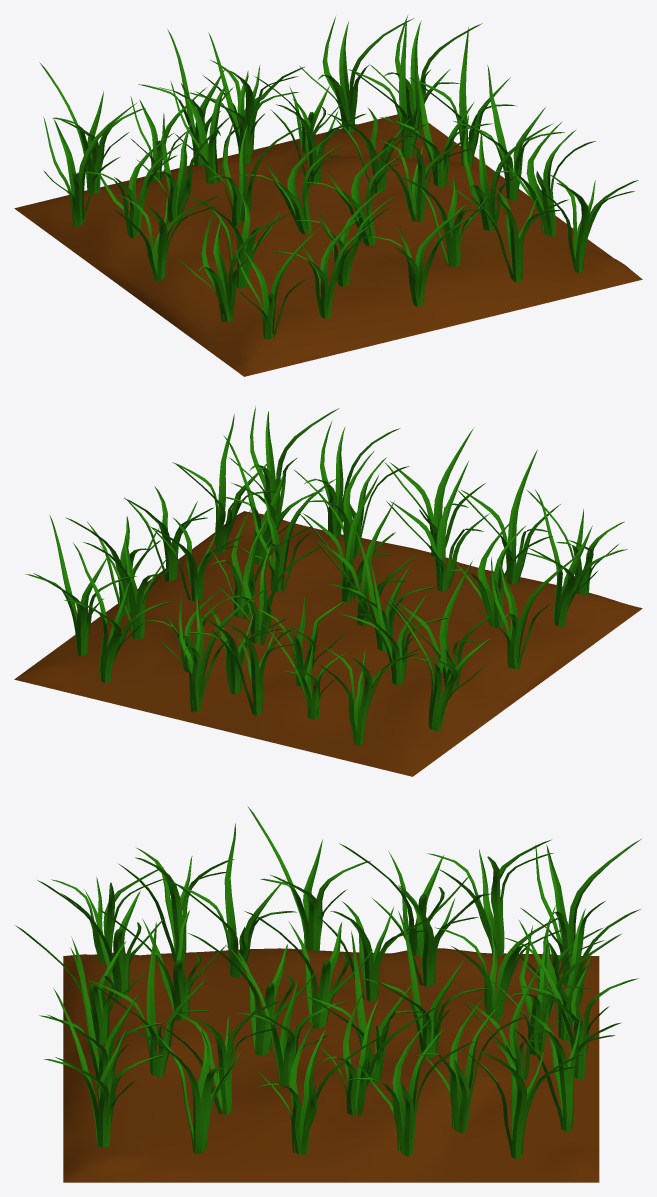
File: white-tulip-p1-bloom.glb
3 renders of one model, top to bottom at view 1: azimuth 30°, elevation 25°; view 2: azimuth 150°, elevation 25°; view 3: azimuth 270°, elevation 25°, orthographic. The views are drawn at different scales.
Visible parts, largest first — view 1: 1_nft_bloom; view 2: 1_nft_bloom; view 3: 1_nft_bloom.
Boxes of the visible parts, left/top/right/bottom form: 1_nft_bloom: left=14, top=15, right=642, bottom=376; 1_nft_bloom: left=14, top=406, right=642, bottom=776; 1_nft_bloom: left=15, top=806, right=641, bottom=1182.
Bounding box in the file's own units: 0.7709 × 0.2092 × 0.8215.
